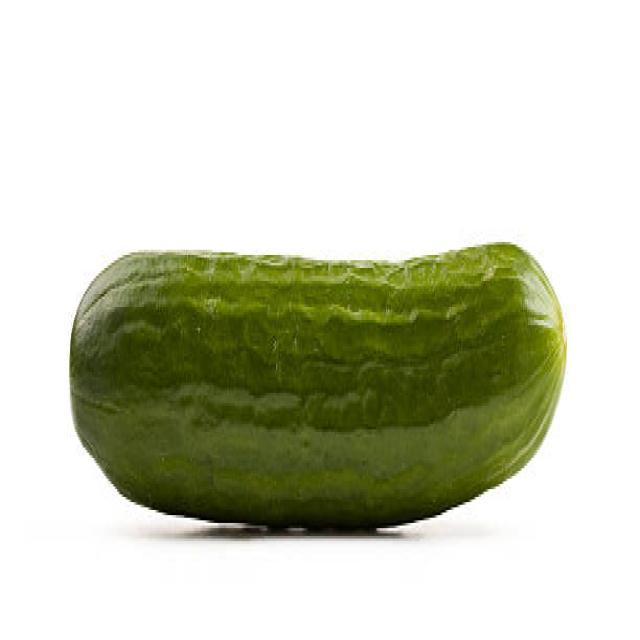cucumber: (68, 238, 568, 526)
